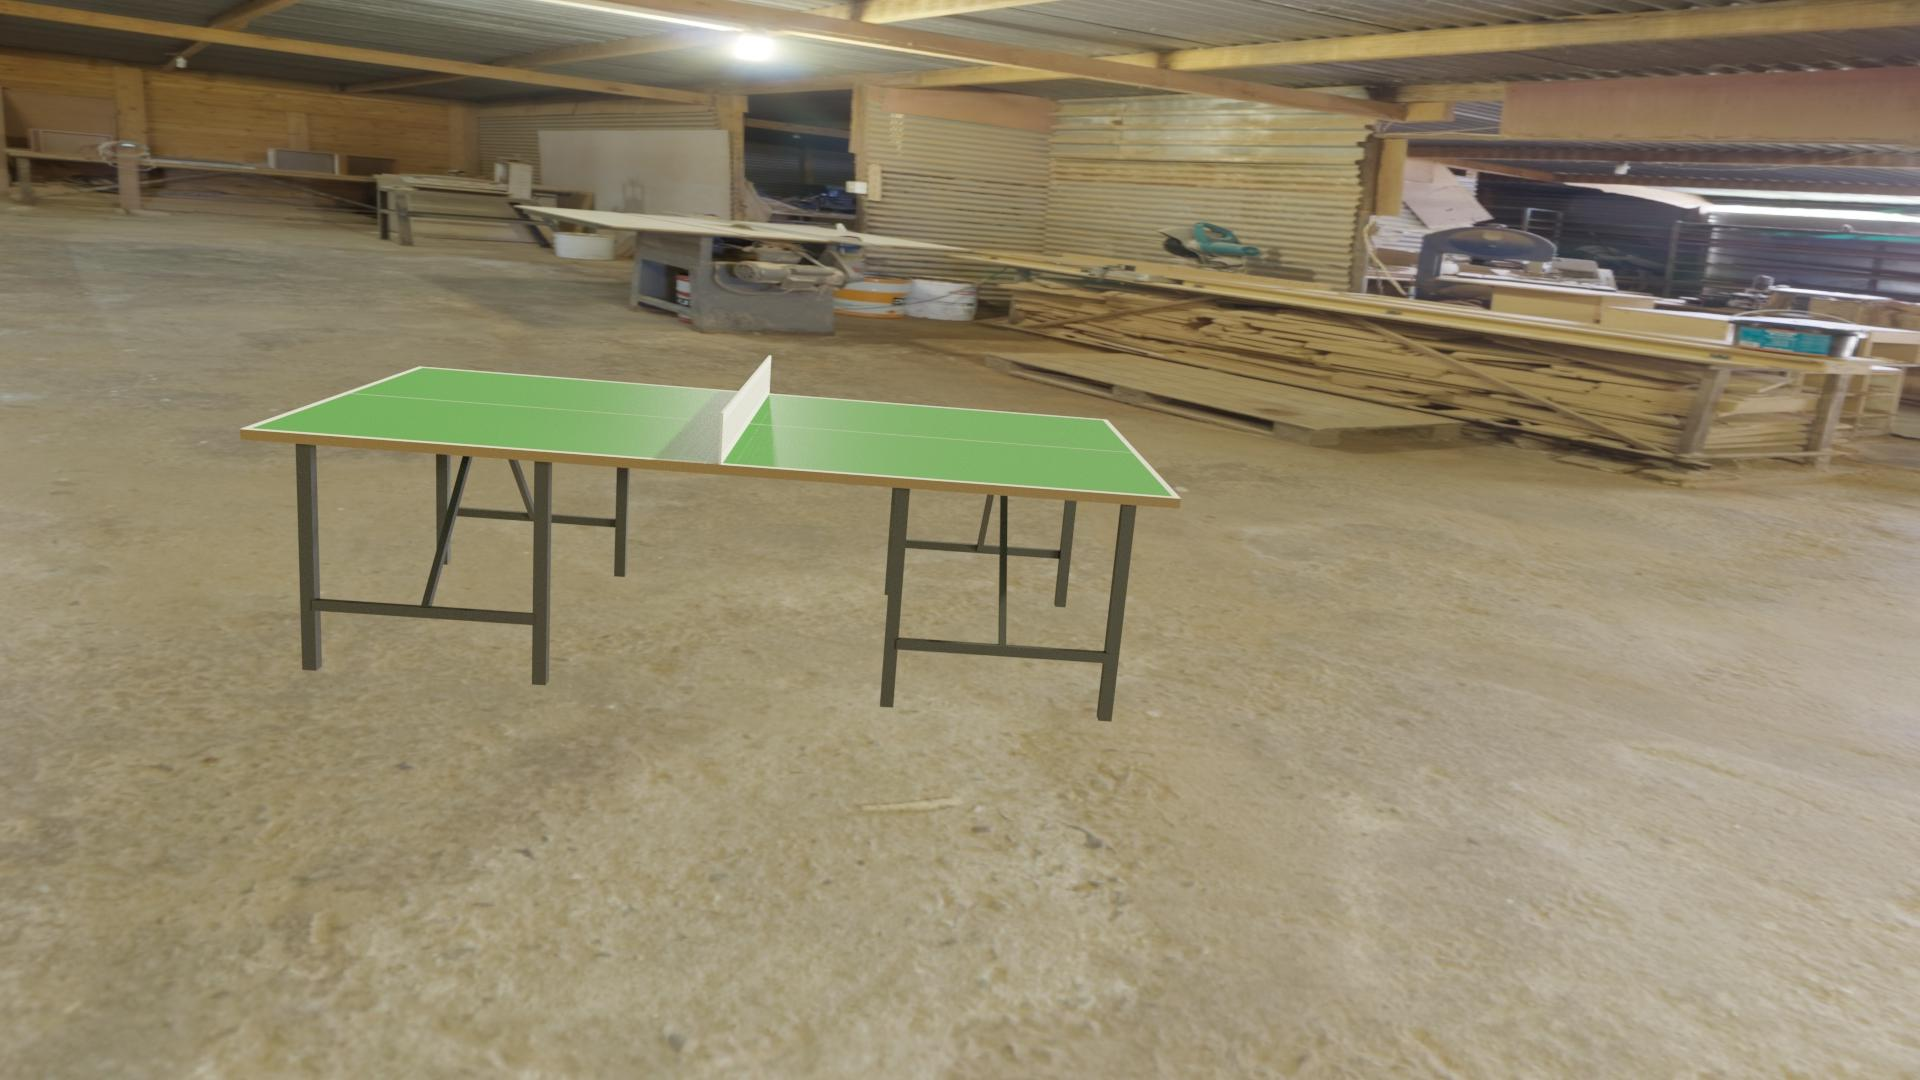table: (251, 368, 1172, 497)
